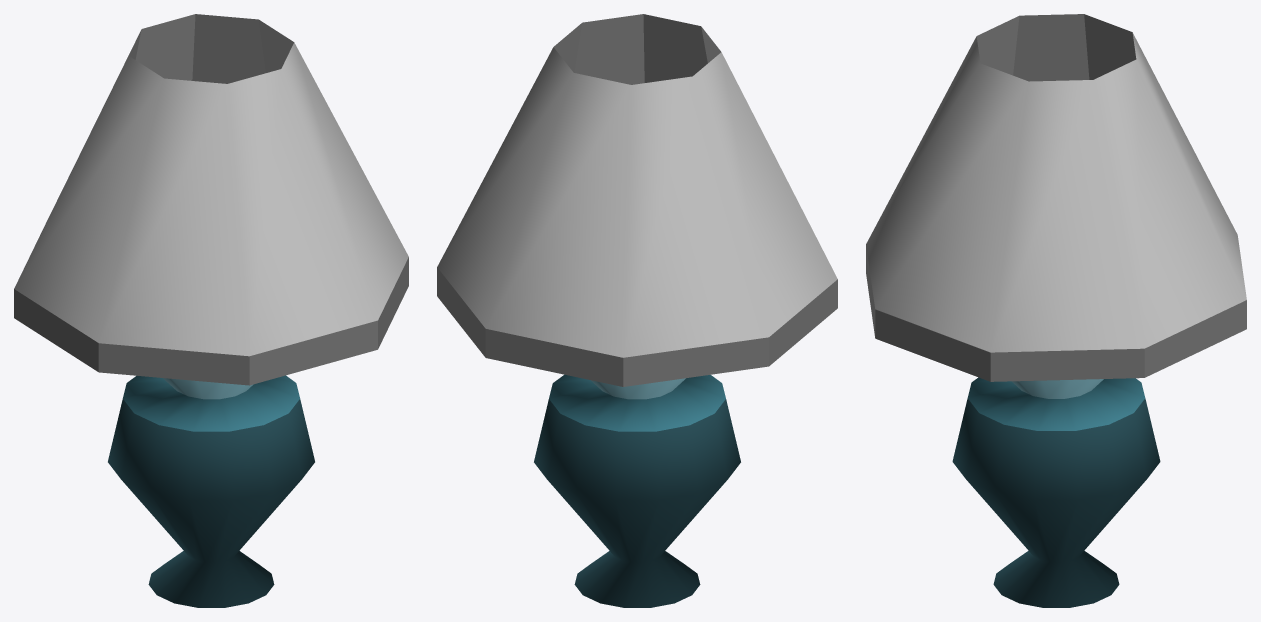
The model's file is obs_sm_tableLamp.fbx.
3 renders of one model, left to right at view 1: azimuth 30°, elevation 25°; view 2: azimuth 150°, elevation 25°; view 3: azimuth 270°, elevation 25°, orthographic.
Visible parts, largest first — view 1: revolvedSurface2; view 2: revolvedSurface2; view 3: revolvedSurface2.
Boxes of the visible parts, x1,y1,x2,y2 form: revolvedSurface2: (14, 14, 408, 607); revolvedSurface2: (437, 14, 837, 607); revolvedSurface2: (866, 14, 1246, 607).
Size of the model in its own units: 0.7743 by 1.2 by 0.7743.
